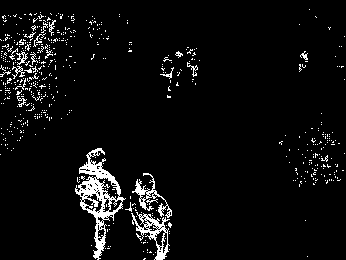person: (75, 146, 123, 259), (129, 173, 172, 260)
